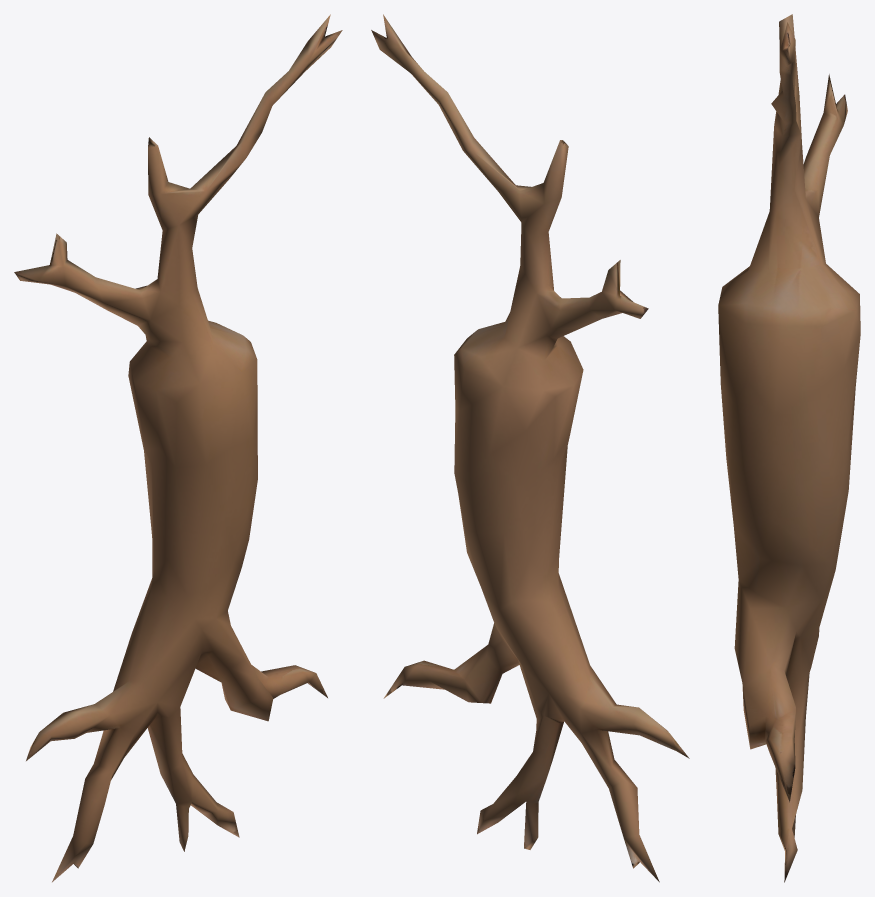
File: root-tendril.glb
The picture shows the model from 3 angles, left to right: view 1: azimuth 30°, elevation 25°; view 2: azimuth 150°, elevation 25°; view 3: azimuth 270°, elevation 25°; orthographic projection. The views are drawn at different scales.
Size of the model in its own units: 0.8375 by 2.02 by 0.2849.
Materials: 1 (1 with a texture image).
